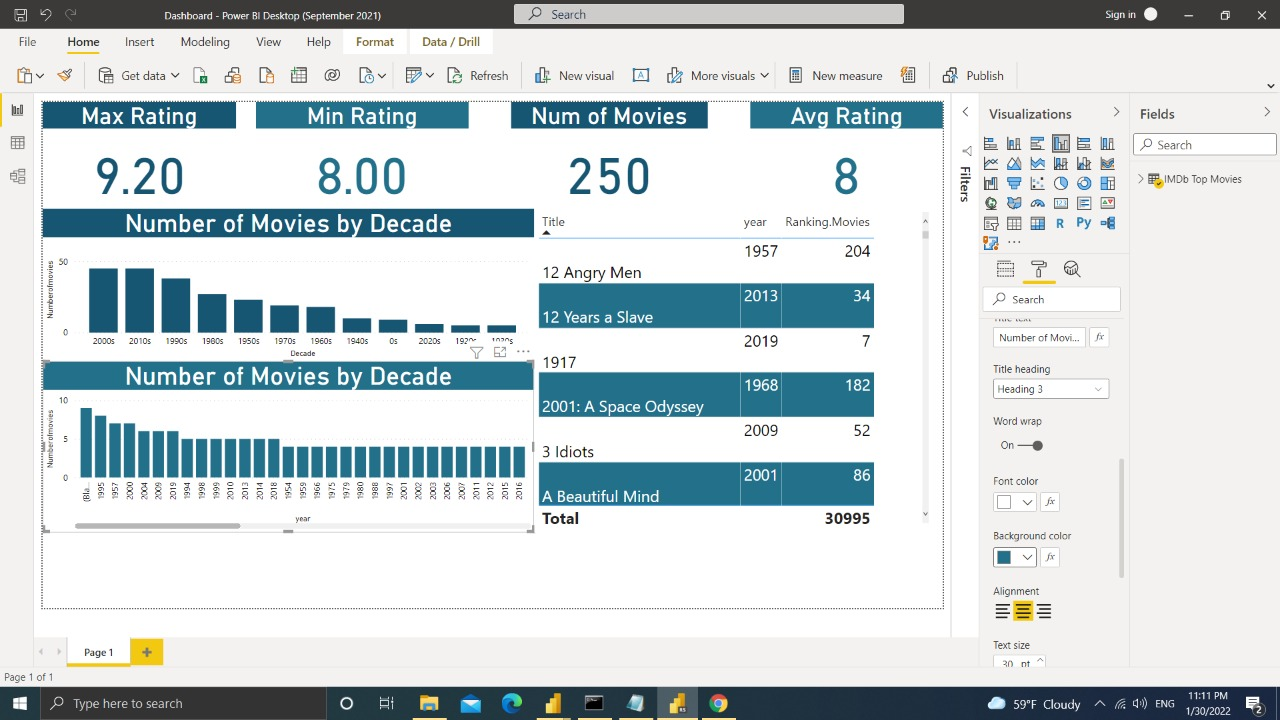

This screenshot's page, from the dashboard's own definition file:
{"tool":"powerbi","page":{"name":"Page 1","canvas":[1280,720],"ordinal":0},"visuals":[{"type":"card","title":"Max Rating","fields":{"Values":["IMDb Top Movies.Max.Rating"]},"box":[0,0,275,152],"z":0},{"type":"card","title":"Num of Movies","fields":{"Values":["IMDb Top Movies.Numberofmovies"]},"box":[666.6,0,279.7,152],"z":1000},{"type":"card","title":"Min Rating","fields":{"Values":["IMDb Top Movies.Min.Rating"]},"box":[303.9,0,302.1,152],"z":2000},{"type":"clusteredColumnChart","title":"Number of Movies by Decade","fields":{"Category":["IMDb Top Movies.Decade"],"Y":["IMDb Top Movies.Numberofmovies"]},"box":[0,152,699.2,217.2],"z":3000},{"type":"clusteredColumnChart","title":"Number of Movies by Decade","fields":{"Category":["IMDb Top Movies.year"],"Y":["IMDb Top Movies.Numberofmovies"]},"box":[0,369.2,699.2,243.3],"z":4000},{"type":"card","title":"Avg Rating","fields":{"Values":["IMDb Top Movies.Avg.Rating"]},"box":[1005.9,0,274.1,152],"z":5000},{"type":"tableEx","fields":{"Values":["IMDb Top Movies.Title","IMDb Top Movies.year","Sum(IMDb Top Movies.Ranking.Movies)"]},"box":[699.2,152,565.9,460.5],"z":6000}]}

Visuals, with their boxes on the page's 1280x720 design canvas (x1, y1, x2, y2). These are canvas units, not pixel positions in the 1280x720 screenshot, which may show the page scaled, cropped or inside an application window:
"Max Rating" card: Rect(0, 0, 275, 152)
"Num of Movies" card: Rect(667, 0, 946, 152)
"Min Rating" card: Rect(304, 0, 606, 152)
"Number of Movies by Decade" clusteredColumnChart: Rect(0, 152, 699, 369)
"Number of Movies by Decade" clusteredColumnChart: Rect(0, 369, 699, 612)
"Avg Rating" card: Rect(1006, 0, 1280, 152)
tableEx - IMDb Top Movies.Title x IMDb Top Movies.year: Rect(699, 152, 1265, 612)
